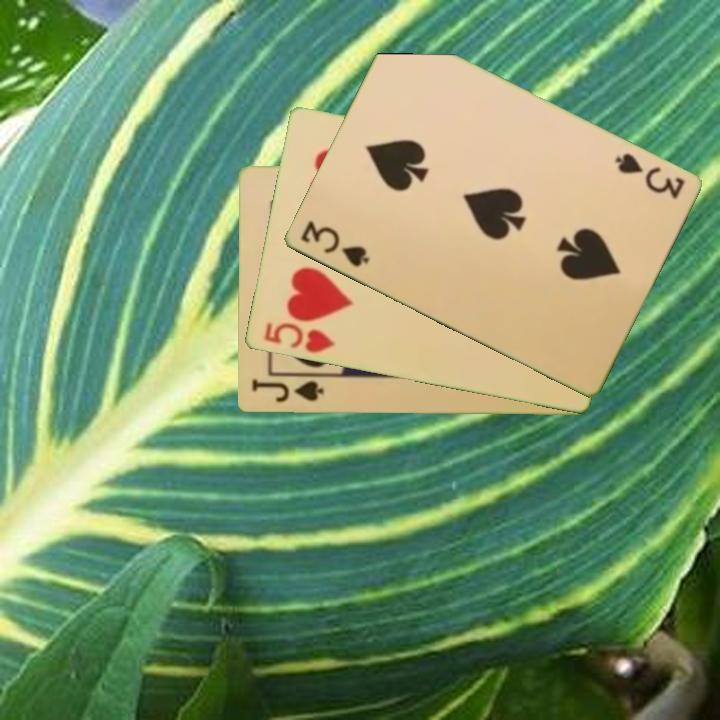3s: (296, 217, 372, 270), (611, 149, 687, 202)
5h: (260, 319, 337, 356)
Js: (248, 376, 326, 406)
